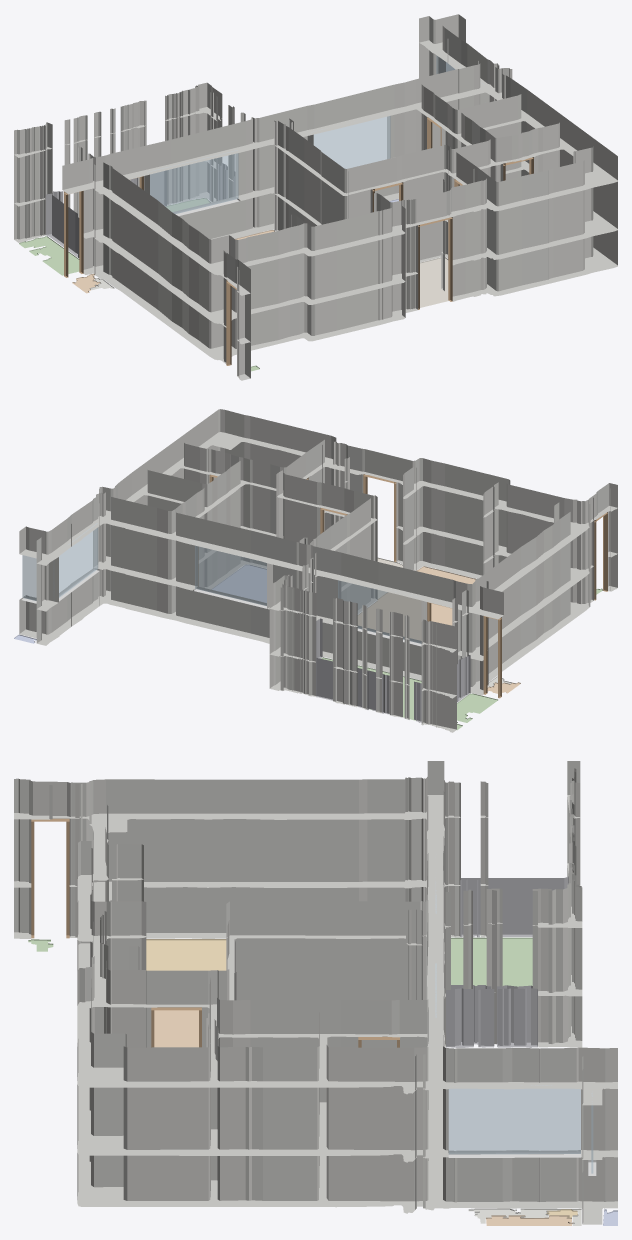
3 renders of one model, top to bottom at view 1: azimuth 30°, elevation 25°; view 2: azimuth 150°, elevation 25°; view 3: azimuth 270°, elevation 25°, orthographic. The views are drawn at different scales.
Visible parts, largest first — view 1: walls, window_10, window_11, railings, floor_13_Entry, floor_1_Outdoor, door_0, door_6, door_7; view 2: walls, window_11, railings, window_10, floor_8_Living_Room, window_9, floor_10_Bed_Room, door_0, floor_1_Outdoor, door_7, window_8; view 3: walls, window_9, railings, floor_2_Outdoor, floor_3_Kitchen, floor_8_Living_Room, door_7, floor_19_Undefined, floor_9_Living_Room, sill_9.
Boxes of the visible parts, <box> form: walls: <box>14,14,617,380</box>; window_10: <box>147,150,238,214</box>; window_11: <box>311,116,390,168</box>; railings: <box>46,160,234,258</box>; floor_13_Entry: <box>420,257,448,307</box>; floor_1_Outdoor: <box>19,236,79,275</box>; door_0: <box>64,190,83,277</box>; door_6: <box>418,217,452,309</box>; door_7: <box>226,280,236,365</box>; walls: <box>19,409,617,732</box>; window_11: <box>195,545,266,605</box>; railings: <box>316,618,470,722</box>; window_10: <box>338,580,421,643</box>; floor_8_Living_Room: <box>358,566,475,640</box>; window_9: <box>53,523,98,600</box>; floor_10_Bed_Room: <box>212,564,266,602</box>; door_0: <box>483,616,501,698</box>; floor_1_Outdoor: <box>457,693,497,730</box>; door_7: <box>594,512,607,600</box>; window_8: <box>22,555,36,600</box>; walls: <box>14,761,617,1224</box>; window_9: <box>448,1085,580,1154</box>; railings: <box>446,877,568,1047</box>; floor_2_Outdoor: <box>451,937,532,986</box>; floor_3_Kitchen: <box>146,939,226,970</box>; floor_8_Living_Room: <box>154,1010,198,1047</box>; door_7: <box>31,818,69,938</box>; floor_19_Undefined: <box>468,1208,581,1225</box>; floor_9_Living_Room: <box>486,1215,573,1225</box>; sill_9: <box>448,1152,580,1157</box>.
Bounding box in the file's own units: 11.7 × 2.72 × 9.63.
